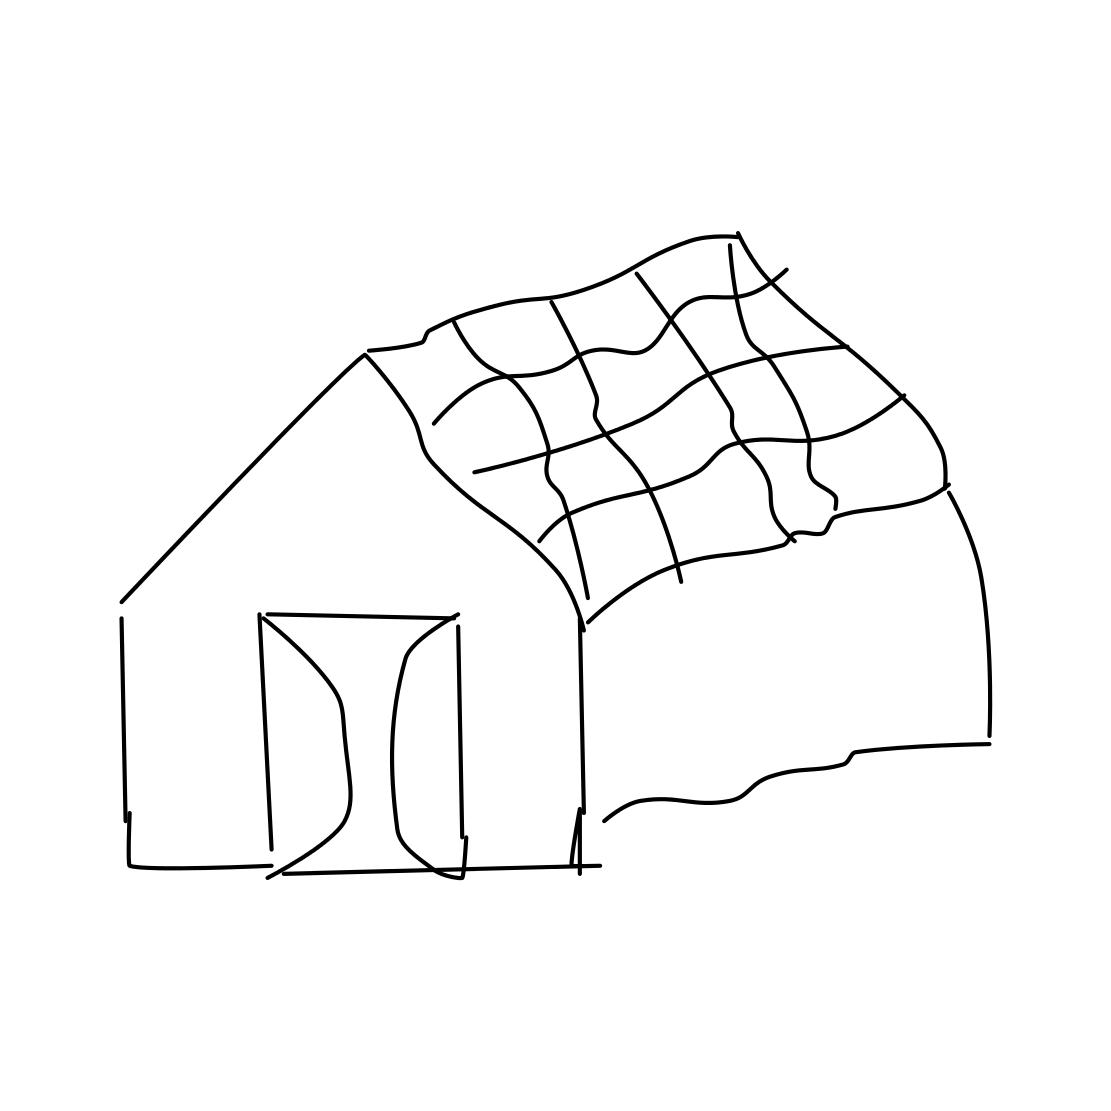House: (64, 223, 1024, 892)
